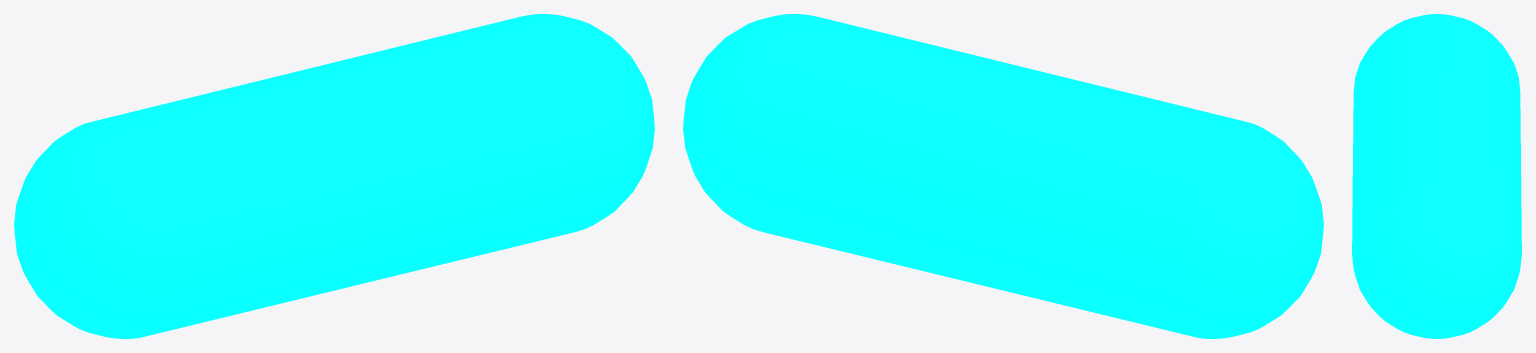
Rendered from tama_long_ao.fbx.
3 views of the same model, side by side, from view 1: azimuth 30°, elevation 25°; view 2: azimuth 150°, elevation 25°; view 3: azimuth 270°, elevation 25° (orthographic). The views are drawn at different scales.
Visible parts, largest first — view 1: 球.003; view 2: 球.003; view 3: 球.003.
Boxes of the visible parts, x1,y1,x2,y2 form: 球.003: (14, 14, 654, 338); 球.003: (683, 14, 1323, 338); 球.003: (1352, 14, 1521, 338).
Bounding box in the file's own units: 473 × 150 × 150.
